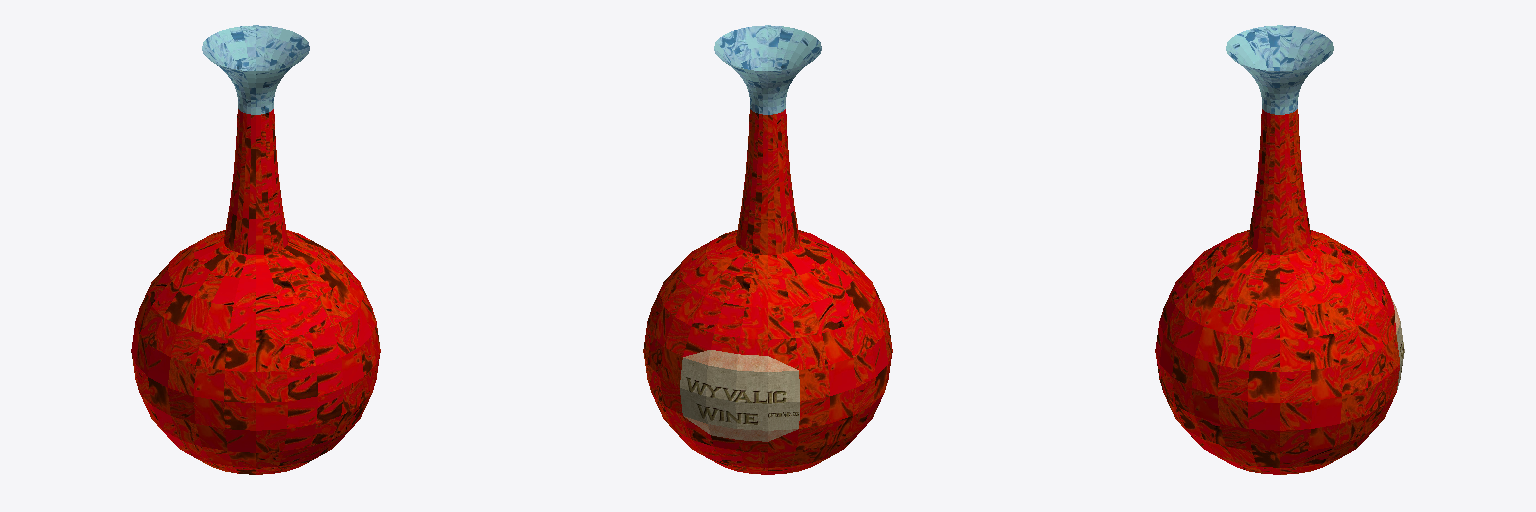
The picture shows the model from 3 angles: view 1: azimuth 30°, elevation 25°; view 2: azimuth 150°, elevation 25°; view 3: azimuth 270°, elevation 25°; orthographic projection.
Parts seen in each view (by area): view 1: mesh1-geometry-1, mesh1-geometry-0; view 2: mesh1-geometry-1, mesh1-geometry-0, mesh1-geometry-5, mesh1-geometry-2; view 3: mesh1-geometry-1, mesh1-geometry-0.
Part boxes in pixels (x1,y1,x2,y2): mesh1-geometry-1: (131, 109, 380, 474); mesh1-geometry-0: (202, 25, 309, 114); mesh1-geometry-1: (643, 109, 892, 474); mesh1-geometry-0: (714, 25, 821, 114); mesh1-geometry-5: (680, 358, 799, 430); mesh1-geometry-2: (683, 350, 798, 441); mesh1-geometry-1: (1155, 109, 1399, 474); mesh1-geometry-0: (1226, 25, 1333, 114).
Bounding box in the file's own units: 0.4314 × 0.7923 × 0.4314.
Materials: 9 (8 with a texture image).